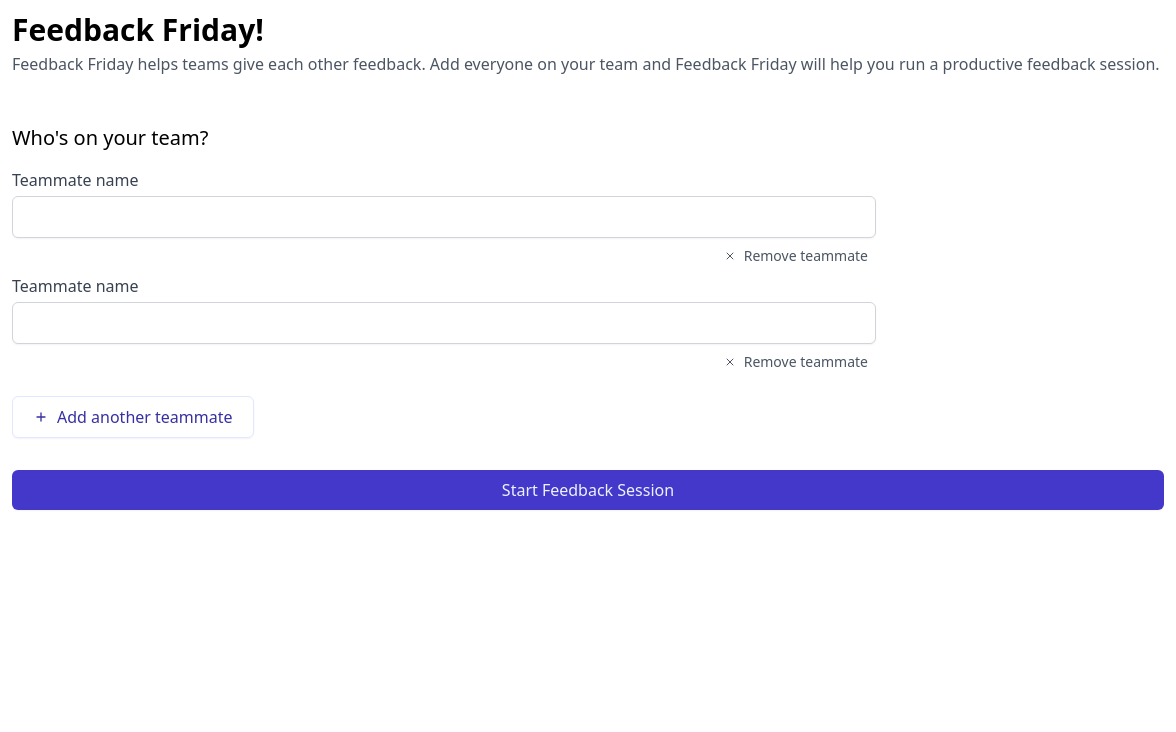
Test: <Home /> › when clicking on the button to add another teammate › adds another input to list a participating teammate
Click the button "Add another teammate" at [133, 417], box 12,396 -> 254,438
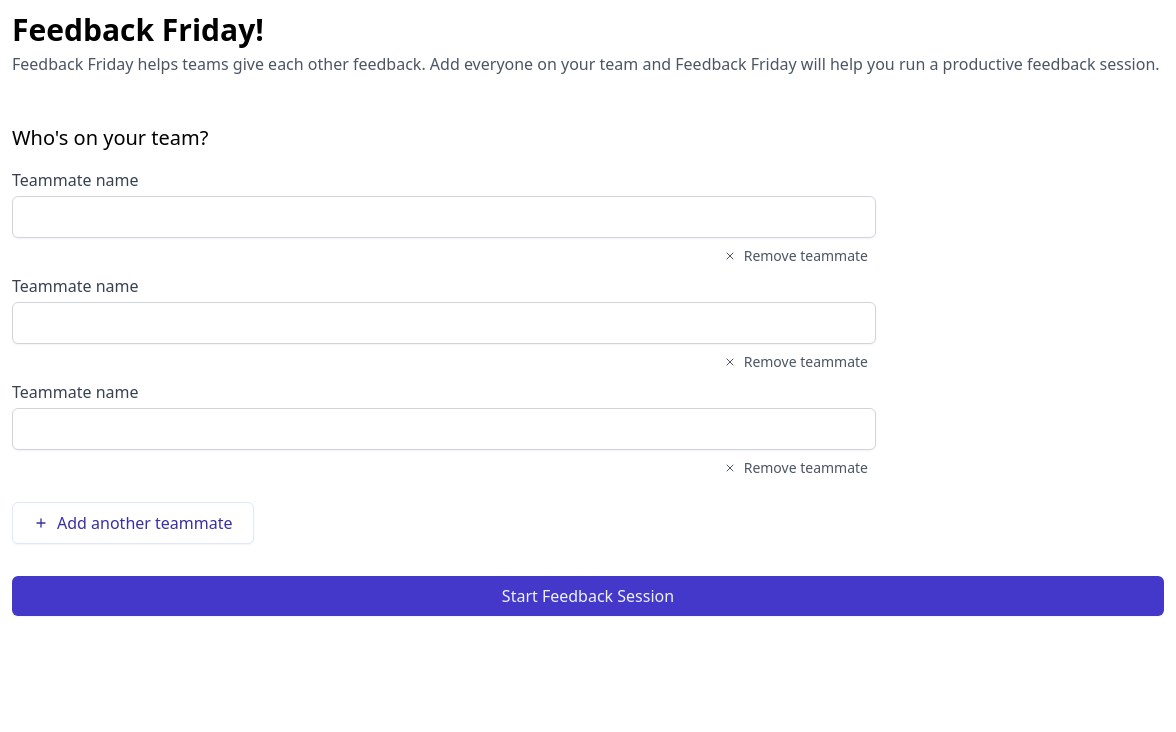
Check: the number of fields labelled "Teammate name" is 3, box 12,196 -> 876,238; 12,302 -> 876,344; 12,408 -> 876,450
